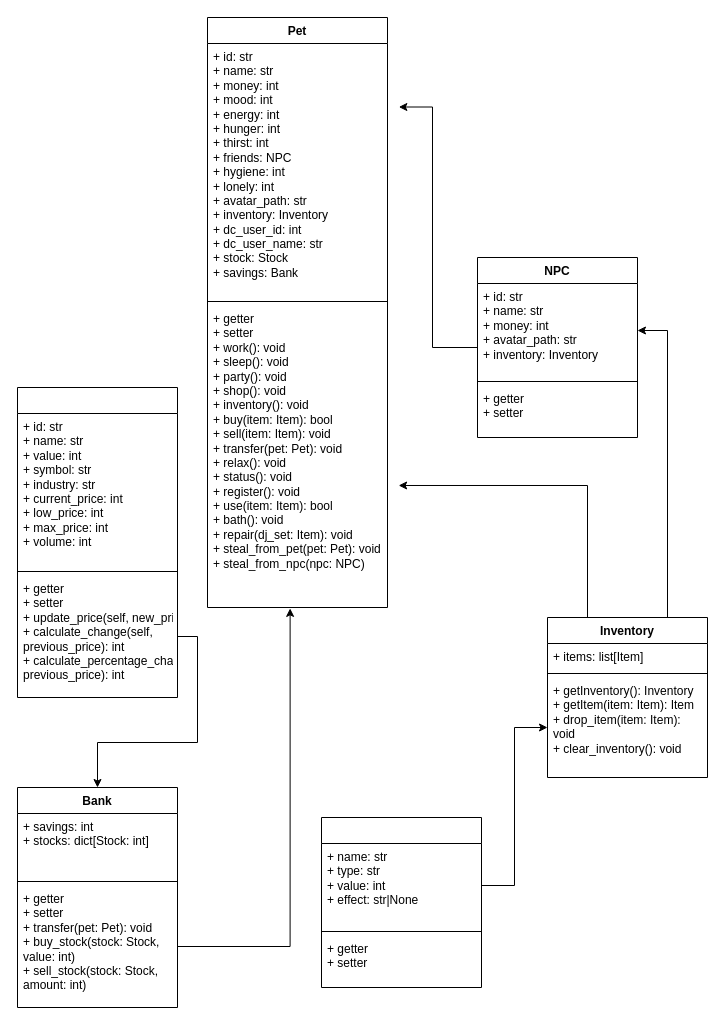
This 725x1028 diagram has some shape labels left out. Here are the shapes that lost their labels. From the top down, the box of each, then its label:
(16, 386, 178, 698): Stock
(320, 816, 482, 988): Item
